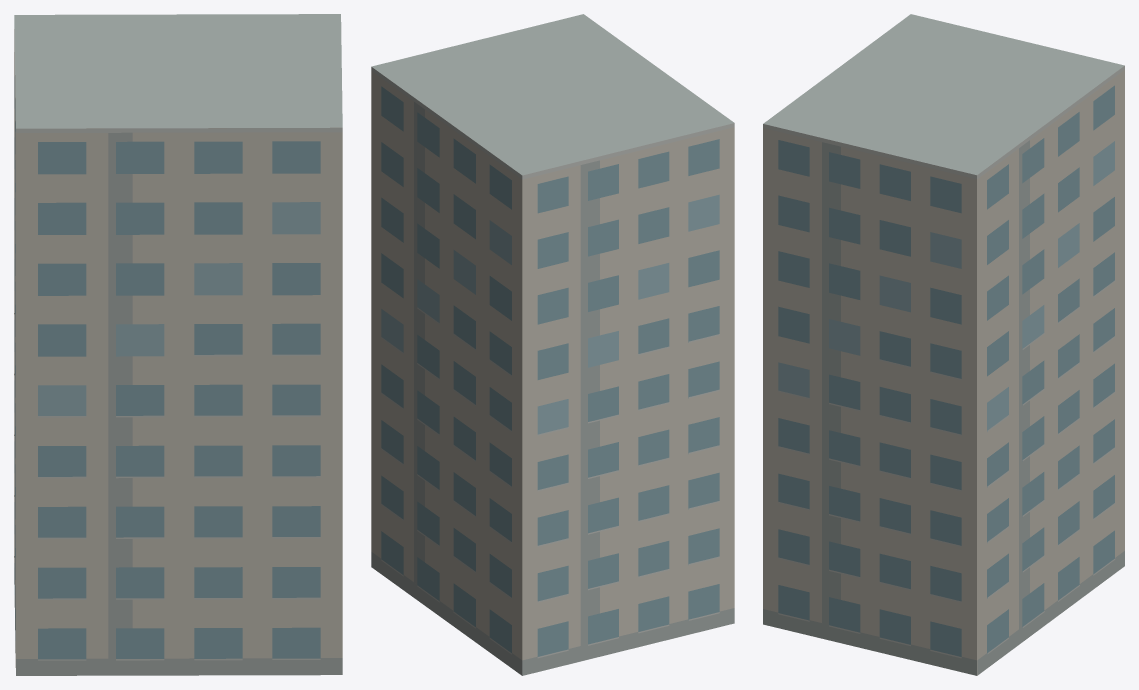
File: residential-8312b225-534f-404b-a299-bec626542edf.glb
The picture shows the model from 3 angles, left to right: view 1: azimuth 30°, elevation 25°; view 2: azimuth 150°, elevation 25°; view 3: azimuth 270°, elevation 25°; orthographic projection. The views are drawn at different scales.
Parts seen in each view (by area): view 1: residential-8312b225-534f-404b-a299-bec626542edf.tmp; view 2: residential-8312b225-534f-404b-a299-bec626542edf.tmp; view 3: residential-8312b225-534f-404b-a299-bec626542edf.tmp.
Part boxes in pixels (x1=…): residential-8312b225-534f-404b-a299-bec626542edf.tmp: x1=14, y1=14, x2=342, y2=675; residential-8312b225-534f-404b-a299-bec626542edf.tmp: x1=371, y1=14, x2=734, y2=675; residential-8312b225-534f-404b-a299-bec626542edf.tmp: x1=763, y1=14, x2=1124, y2=675.
Bounding box in the file's own units: 20.74 × 30 × 19.66.
